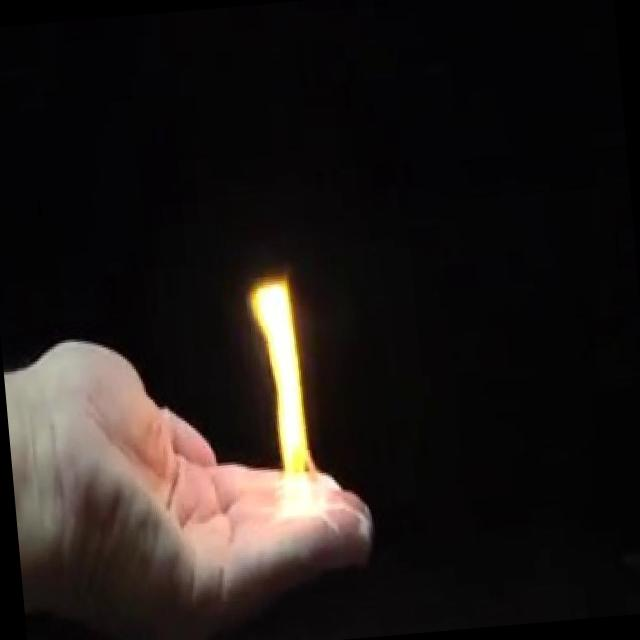Fire: (238, 265, 332, 526)
